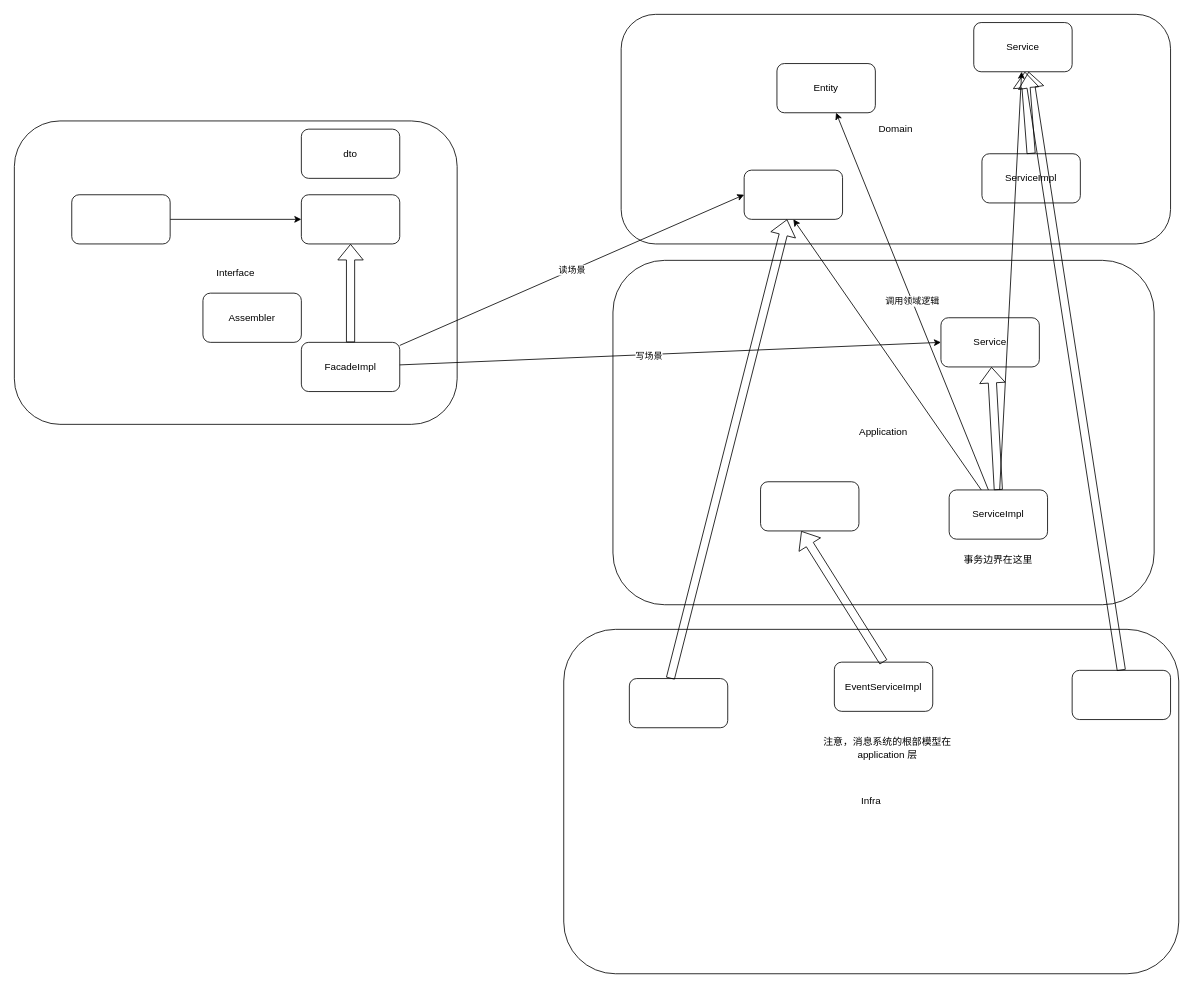
Some shapes in this 1193 by 988 pixel diagram are drawn without their labels. The shapes that lost their labels are listed below. From the top down, each one's centre as x and y in pixels, then its label:
At point (793, 194): "Repo".
At point (120, 219): "Controller".
At point (350, 219): "Facade".
At point (809, 506): "ApplicationEvent（应用层事件的接口声明在应用层）".
At point (678, 703): "RepoImpl".
At point (1121, 695): "ExternalServiceImpl".
